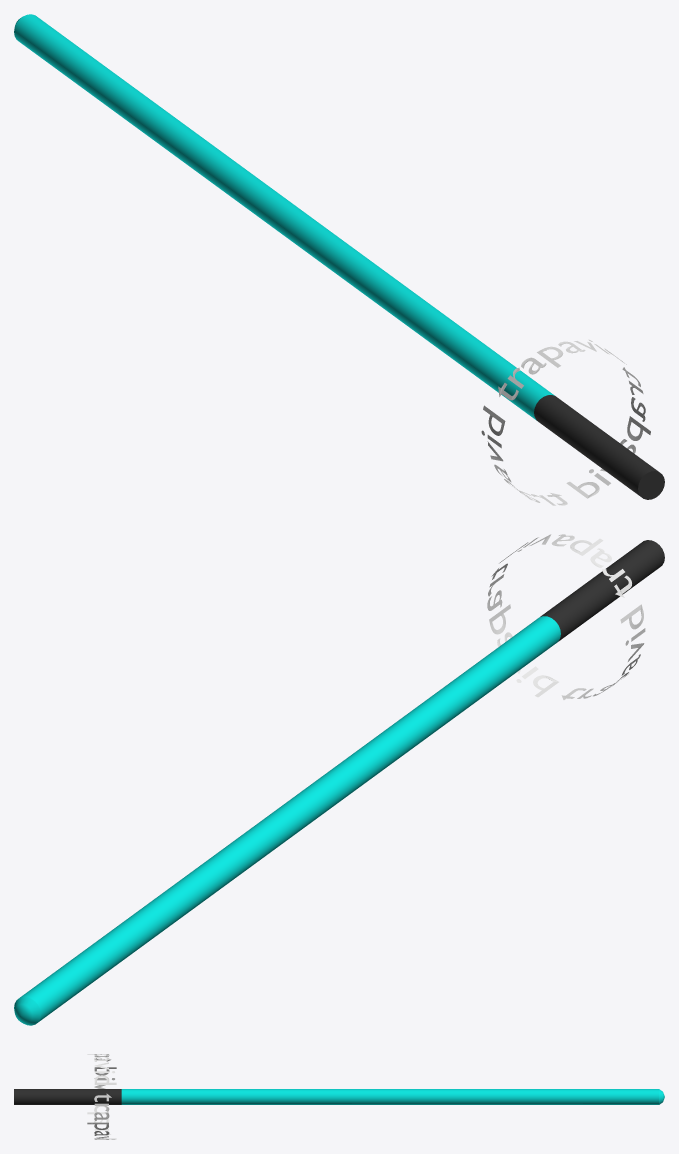
File: trapavid saber.fbx
The picture shows the model from 3 angles, top to bottom: view 1: azimuth 30°, elevation 25°; view 2: azimuth 150°, elevation 25°; view 3: azimuth 270°, elevation 25°; orthographic projection. The views are drawn at different scales.
Parts seen in each view (by area): view 1: Saber; view 2: Saber; view 3: Saber.
Part boxes in pixels (box(x1,y1,x2,y2)): Saber: box(14, 14, 664, 505); Saber: box(14, 534, 664, 1025); Saber: box(14, 1054, 664, 1139).
Size of the model in its own units: 16 by 16 by 121.
